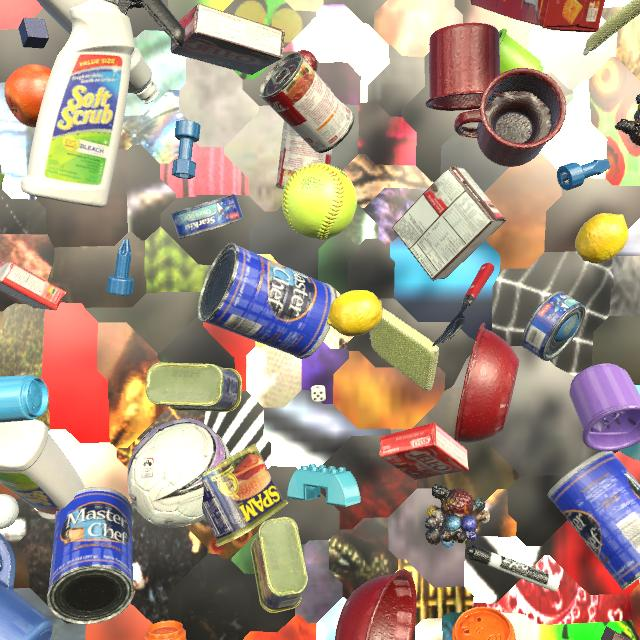ycb_002_master_chef_can: (198, 243, 336, 359), (548, 451, 640, 590), (47, 487, 134, 624)
ycb_003_cracker_box: (471, 0, 605, 32)
ycb_005_tomato_soup_can: (259, 52, 354, 153), (276, 121, 332, 189)
ycb_007_tuna_fish_can: (521, 291, 585, 361), (171, 194, 244, 239)
ycb_008_pudding_box: (392, 166, 507, 281), (170, 4, 285, 75)
ycb_009_gelatin_box: (379, 423, 469, 480), (0, 262, 66, 310)
ycb_010_potted_meat_can: (202, 444, 288, 547), (250, 517, 308, 613), (145, 362, 242, 412)
ycb_014_lemon: (575, 213, 629, 264), (327, 290, 383, 336)
ycb_017_orange: (4, 64, 52, 128)
